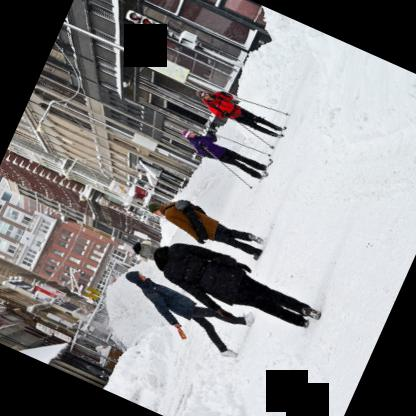backpack: (163, 198, 210, 239), (188, 137, 223, 159)
